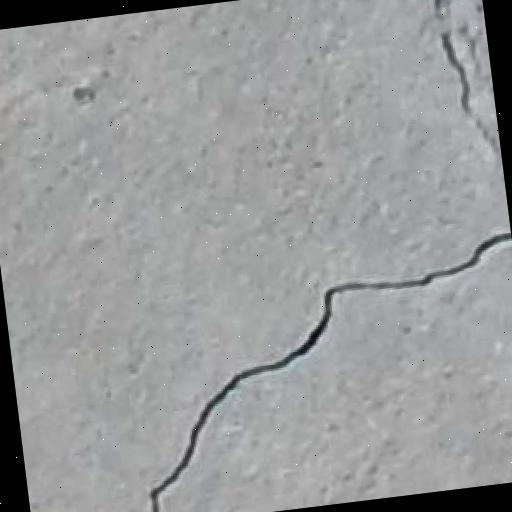spalling: (139, 221, 502, 512)
